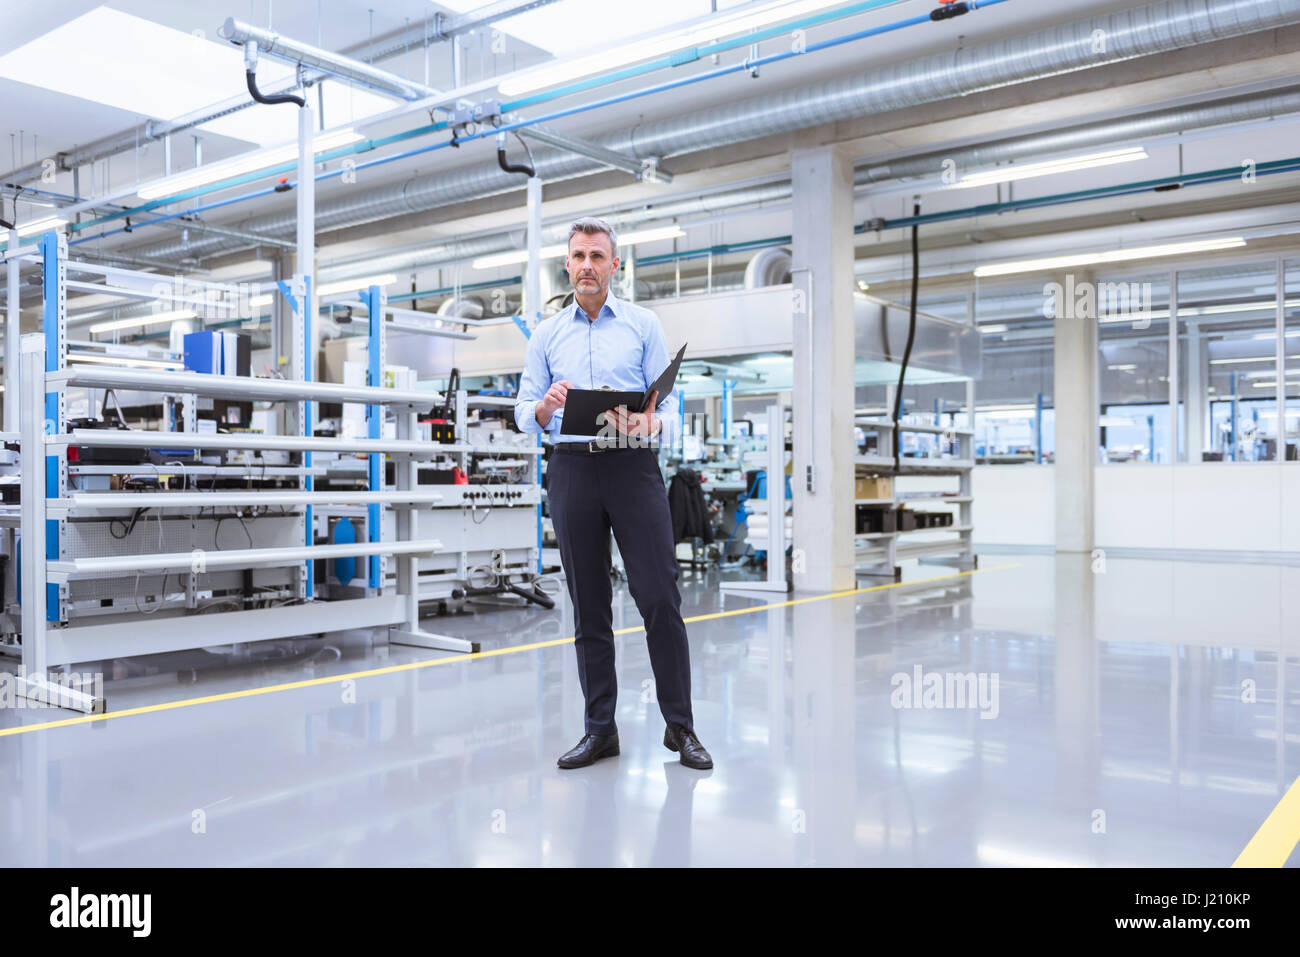person: (515, 220, 712, 770)
